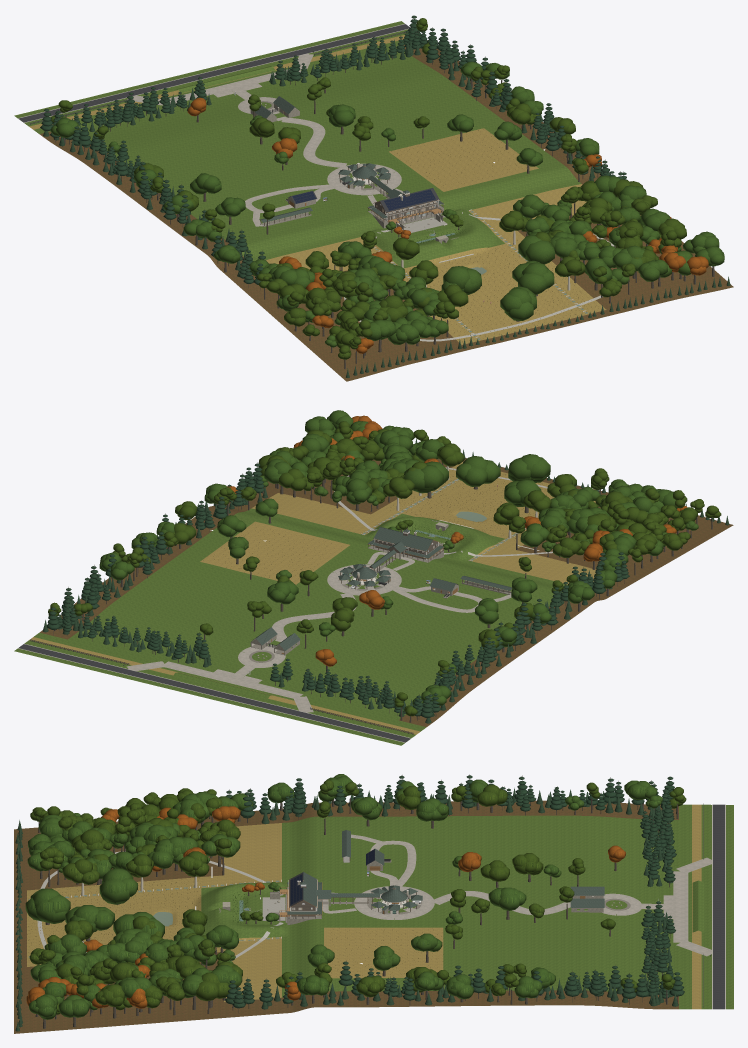
Rendered from CompassHill.glb.
3 renders of one model, top to bottom at view 1: azimuth 30°, elevation 25°; view 2: azimuth 150°, elevation 25°; view 3: azimuth 270°, elevation 25°, orthographic. The views are drawn at different scales.
Visible parts, largest first — view 1: Terrain, Landscape_detail, Site_static, Landscape_static, House_static, Entrance_static, Garage_static; view 2: Terrain, Landscape_detail, Site_static, Landscape_static, Entrance_static, House_static, Garage_static, Court_static; view 3: Terrain, Landscape_detail, Site_static, Landscape_static, House_static, Entrance_static, Court_static, Garage_static.
Boxes of the visible parts, left/top/right/bottom form: Terrain: left=14, top=21, right=733, bottom=381; Landscape_detail: left=40, top=15, right=730, bottom=377; Site_static: left=18, top=24, right=614, bottom=341; Landscape_static: left=47, top=26, right=728, bottom=369; House_static: left=367, top=188, right=443, bottom=230; Entrance_static: left=30, top=31, right=406, bottom=124; Garage_static: left=259, top=191, right=317, bottom=226; Terrain: left=14, top=450, right=733, bottom=745; Landscape_detail: left=42, top=410, right=729, bottom=723; Site_static: left=18, top=467, right=552, bottom=742; Landscape_static: left=53, top=462, right=727, bottom=722; Entrance_static: left=30, top=627, right=413, bottom=734; House_static: left=367, top=527, right=444, bottom=562; Garage_static: left=430, top=576, right=512, bottom=598; Court_static: left=352, top=549, right=396, bottom=584; Terrain: left=14, top=800, right=733, bottom=1033; Landscape_detail: left=15, top=774, right=686, bottom=1031; Site_static: left=37, top=804, right=725, bottom=1009; Landscape_static: left=20, top=774, right=678, bottom=1028; House_static: left=270, top=872, right=331, bottom=924; Entrance_static: left=570, top=803, right=711, bottom=1007; Court_static: left=331, top=885, right=408, bottom=907; Garage_static: left=342, top=830, right=391, bottom=870.
Size of what is drawn, in the model's own units: 289 by 38.95 by 408.
Materials: 71 (33 with a texture image).
